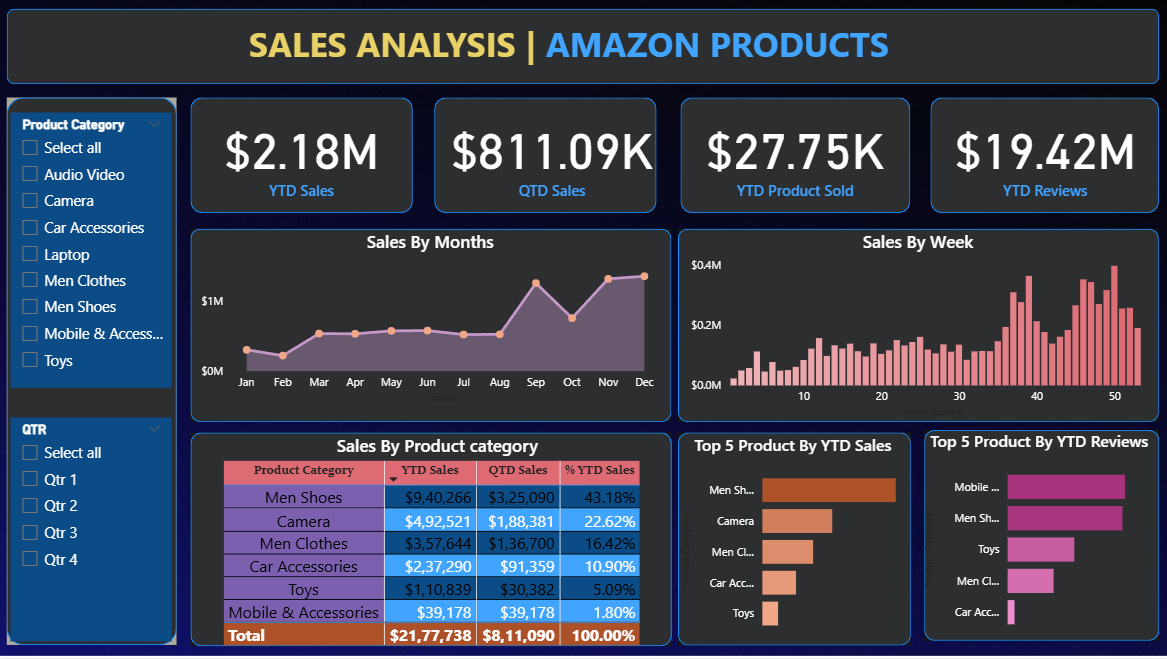

The dashboard page shown, as its layout file describes it:
{"tool":"powerbi","page":{"name":"Page 1","canvas":[1280,720],"ordinal":0},"visuals":[{"type":"shape","box":[9.6,9.6,1259.7,82.3],"z":0},{"type":"textbox","box":[269,17.8,741,74.1],"z":1000},{"type":"shape","box":[9.6,106.6,185.8,598.5],"z":2000},{"type":"shape","box":[209.9,107,242.9,126.2],"z":3000},{"type":"shape","box":[476.6,107,242.9,126.2],"z":4000},{"type":"shape","box":[1019.6,107,249.7,126.2],"z":5000},{"type":"shape","box":[746.5,107,251.1,126.2],"z":6000},{"type":"card","fields":{"Values":["Amazon_Data.YTD Sales"]},"box":[216.8,113.9,229.2,112.5],"z":7000},{"type":"card","fields":{"Values":["Amazon_Data.QTD Sales"]},"box":[483,107,244.3,126.2],"z":8000},{"type":"card","fields":{"Values":["Amazon_Data.YTD Product Sold"]},"box":[753.3,107,237.4,126.2],"z":9000},{"type":"card","fields":{"Values":["Amazon_Data.YTD Reviews"]},"box":[1030.5,107,229.2,126.2],"z":10000},{"type":"shape","box":[743.7,249.7,525.6,211.3],"z":11000},{"type":"shape","box":[209.9,249.7,525.6,211.3],"z":12000},{"type":"areaChart","title":"Sales By Months","fields":{"Category":["date table.month"],"Y":["Sum(Amazon_Data.Price(Dollar))"]},"box":[217.2,250.9,510.3,194.2],"z":13000},{"type":"shape","box":[210.4,472.8,526,233.6],"z":14000},{"type":"lineStackedColumnComboChart","title":"Sales By Week","fields":{"Category":["date table.week number"],"Y":["Sum(Amazon_Data.Price(Dollar))"]},"box":[752.8,250.9,505.5,209.9],"z":15000},{"type":"shape","box":[743.2,472.9,254.6,232.8],"z":16000},{"type":"shape","box":[1012.2,470.5,257,230.4],"z":17000},{"type":"clusteredBarChart","title":"Top 5 Product By YTD Sales","fields":{"Category":["Amazon_Data.Product Category"],"Y":["Amazon_Data.YTD Sales"]},"box":[742.4,474.8,253.9,229.2],"z":18000},{"type":"clusteredBarChart","title":"Top 5 Product By YTD Reviews","fields":{"Category":["Amazon_Data.Product Category"],"Y":["Amazon_Data.YTD Reviews"]},"box":[1007,470,262.3,232.3],"z":19000},{"type":"tableEx","title":"Sales By Product category","fields":{"Values":["Amazon_Data.Product Category","Amazon_Data.YTD Sales","Amazon_Data.QTD Sales","Divide(Amazon_Data.YTD Sales, ScopedEval(Amazon_Data.YTD Sales, []))"]},"box":[240.5,474.1,479.6,239.1],"z":19001},{"type":"slicer","fields":{"Values":["Amazon_Data.Product Category"]},"box":[13.7,123,176.3,300.6],"z":19002},{"type":"slicer","fields":{"Values":["date table.qtr"]},"box":[13.7,456.4,176.3,244.6],"z":19003}]}

Visuals, with their boxes in screenshot pixels (x1, y1, x2, y2), scaled from the page's 1280x720 canvas onto the 1167x659 screenshot:
shape: <region>9, 9, 1157, 84</region>
textbox: <region>245, 16, 921, 84</region>
shape: <region>9, 98, 178, 645</region>
shape: <region>191, 98, 413, 213</region>
shape: <region>435, 98, 656, 213</region>
shape: <region>930, 98, 1157, 213</region>
shape: <region>681, 98, 910, 213</region>
card - Amazon_Data.YTD Sales: <region>198, 104, 407, 207</region>
card - Amazon_Data.QTD Sales: <region>440, 98, 663, 213</region>
card - Amazon_Data.YTD Product Sold: <region>687, 98, 903, 213</region>
card - Amazon_Data.YTD Reviews: <region>940, 98, 1148, 213</region>
shape: <region>678, 229, 1157, 422</region>
shape: <region>191, 229, 671, 422</region>
"Sales By Months" areaChart: <region>198, 230, 663, 407</region>
shape: <region>192, 433, 671, 647</region>
"Sales By Week" lineStackedColumnComboChart: <region>686, 230, 1147, 422</region>
shape: <region>678, 433, 910, 646</region>
shape: <region>923, 431, 1157, 642</region>
"Top 5 Product By YTD Sales" clusteredBarChart: <region>677, 435, 908, 644</region>
"Top 5 Product By YTD Reviews" clusteredBarChart: <region>918, 430, 1157, 643</region>
"Sales By Product category" tableEx: <region>219, 434, 657, 653</region>
slicer - Amazon_Data.Product Category: <region>12, 113, 173, 388</region>
slicer - date table.qtr: <region>12, 418, 173, 642</region>
